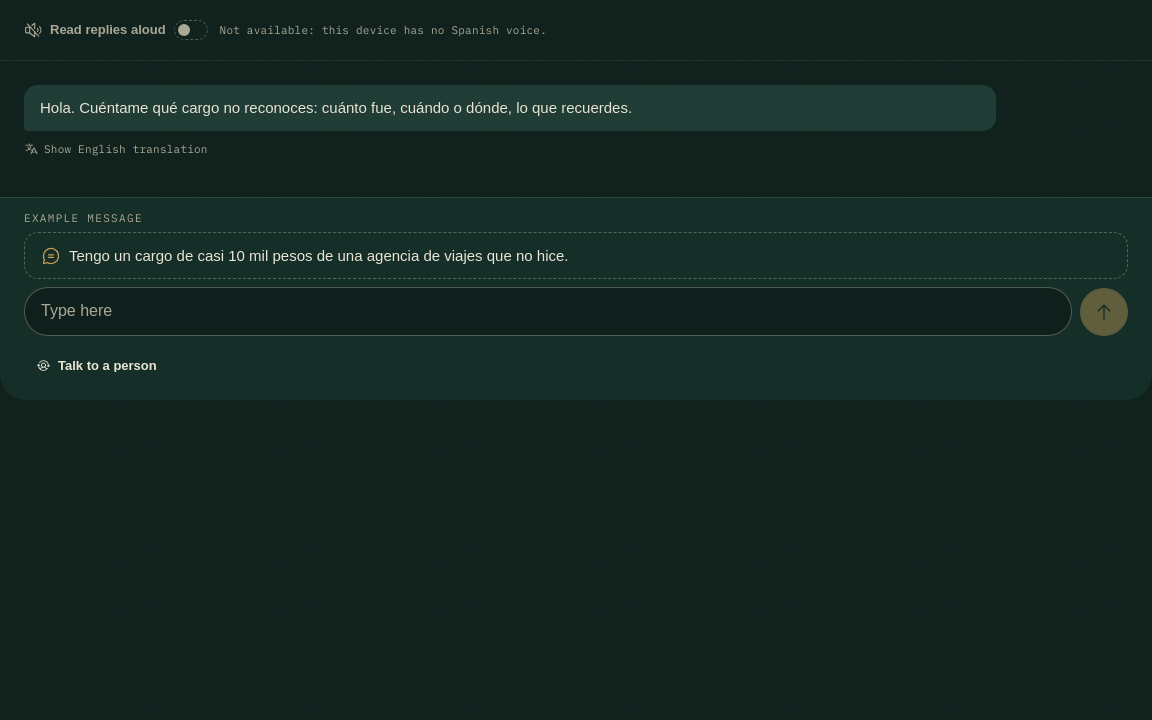
Scenario: the composer after the conversation ends › keeps the message box after a handoff and says messages go to the case
Click the button "Talk to a person" at point(97, 366), box [24,344,170,388]
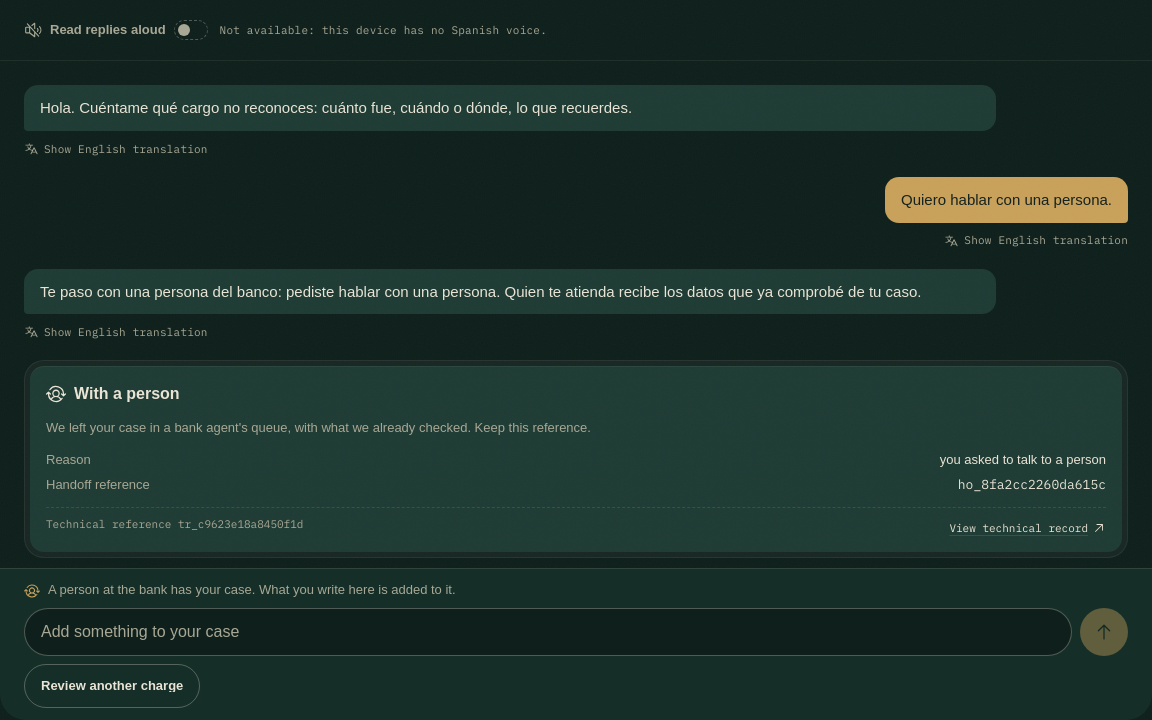
Check: the text "A person at the bank has your case. What you write here is added to it." is shown, box [48,581,456,600]
Check: the button "Review another charge" is shown, box [24,664,200,708]
